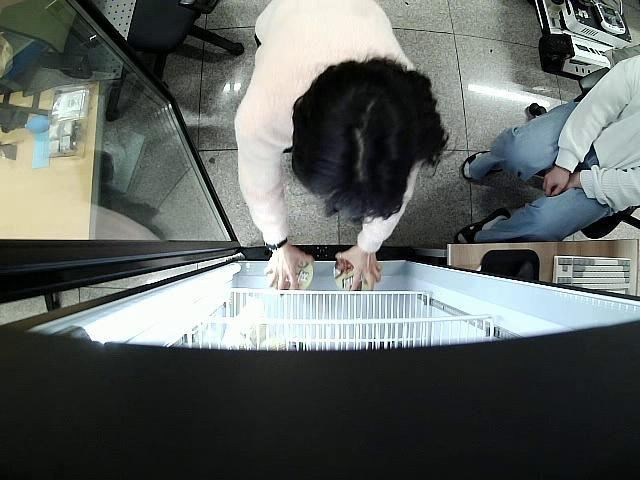03_chapagetti_L: (274, 253, 314, 290), (333, 256, 372, 292)
